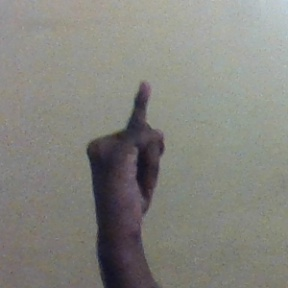I: (87, 77, 169, 234)
